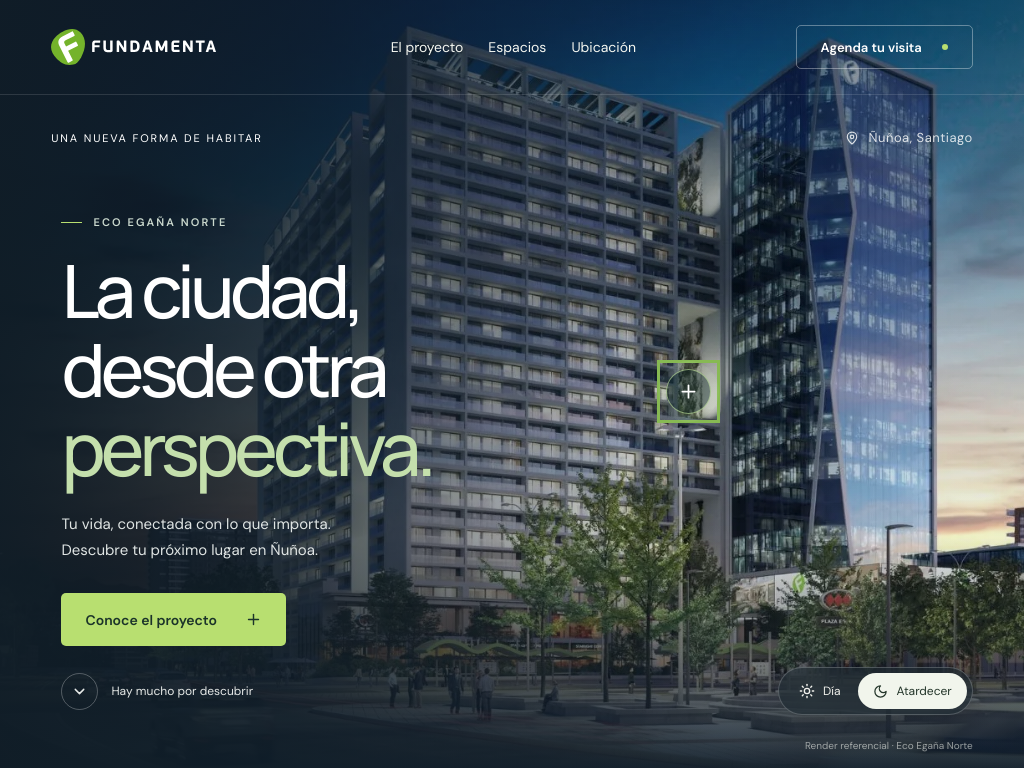
Test case: Recorrido de Fundamenta › abre y cierra el explorador, bloquea el scroll y devuelve el foco
The image size is (1024, 768).
Click the button named "Explorar el edificio Eco Egaña Norte" at [688, 391], box top-left (666, 369), bottom-right (711, 414)
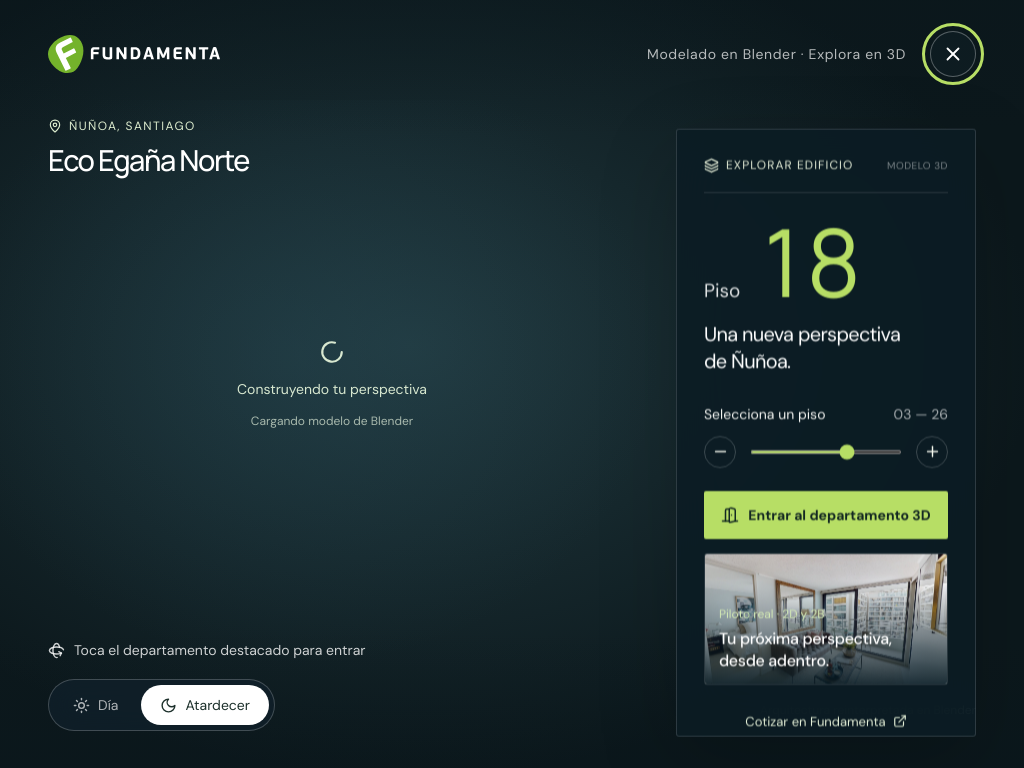
Expected: the dialog named "Eco Egaña Norte" is shown
Press Escape
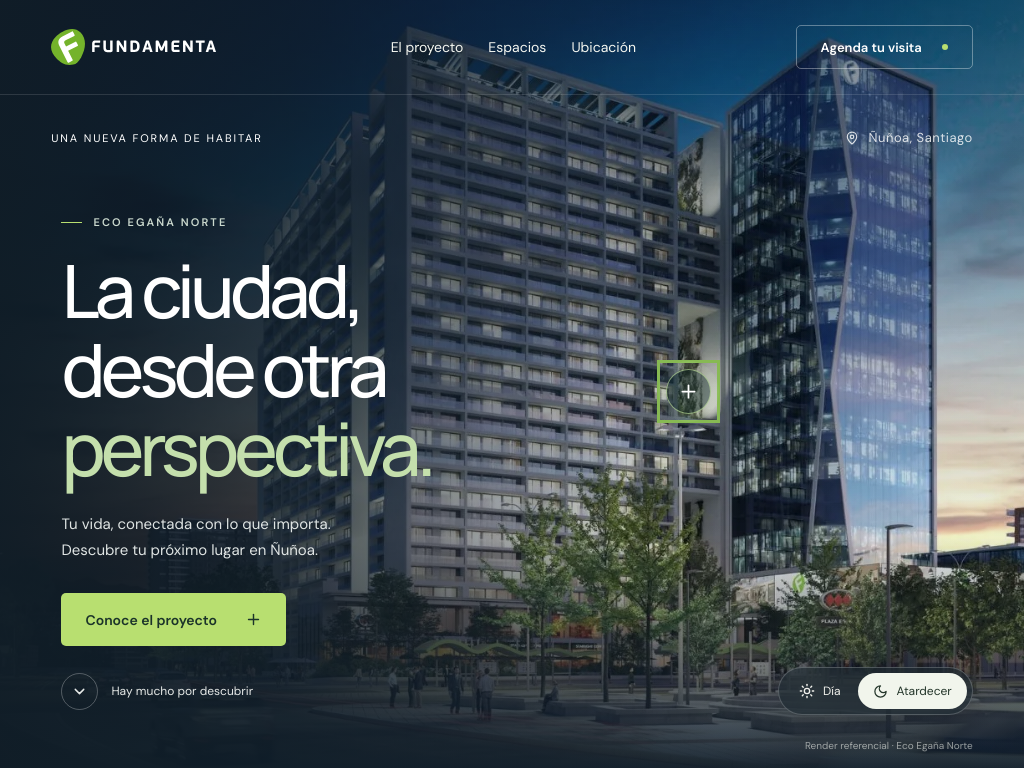
Expected: the dialog is gone
